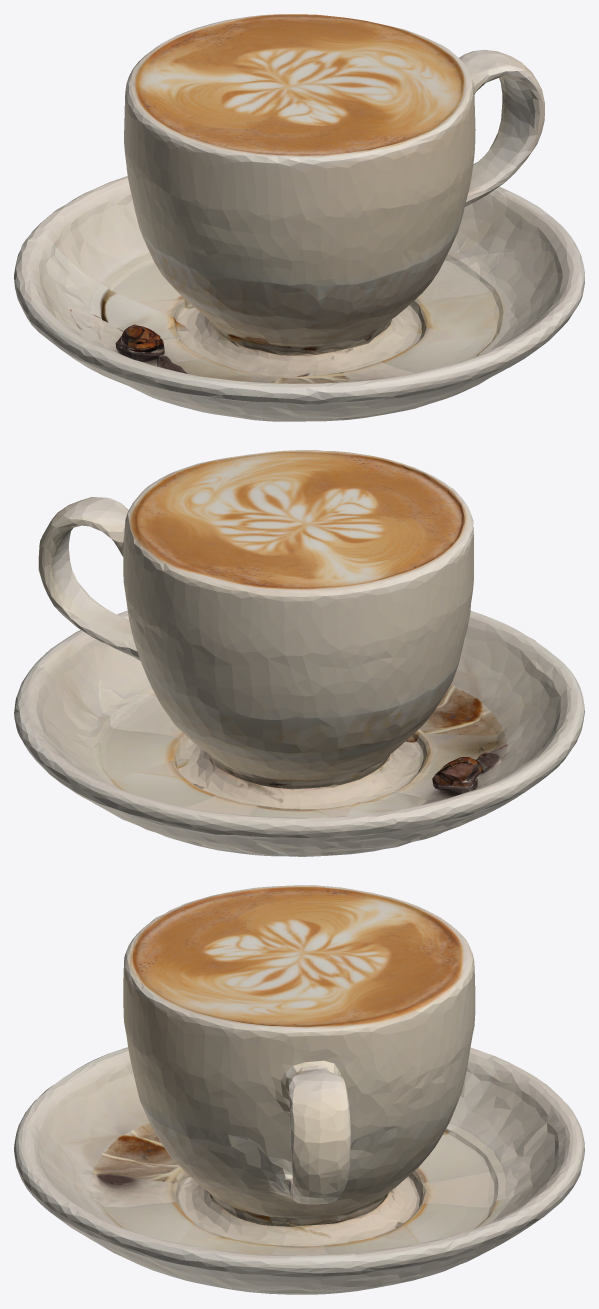
File: Latte_Art_Delight_0615140641_texture.glb
The picture shows the model from 3 angles, top to bottom: view 1: azimuth 30°, elevation 25°; view 2: azimuth 150°, elevation 25°; view 3: azimuth 270°, elevation 25°; orthographic projection.
Visible parts, largest first — view 1: temp; view 2: temp; view 3: temp.
Boxes of the visible parts, left/top/right/bottom form: temp: left=14, top=14, right=584, bottom=421; temp: left=14, top=450, right=584, bottom=856; temp: left=14, top=885, right=584, bottom=1294.
Bounding box in the file's own units: 200 × 98.15 × 200.
1 material, 1 textured.
